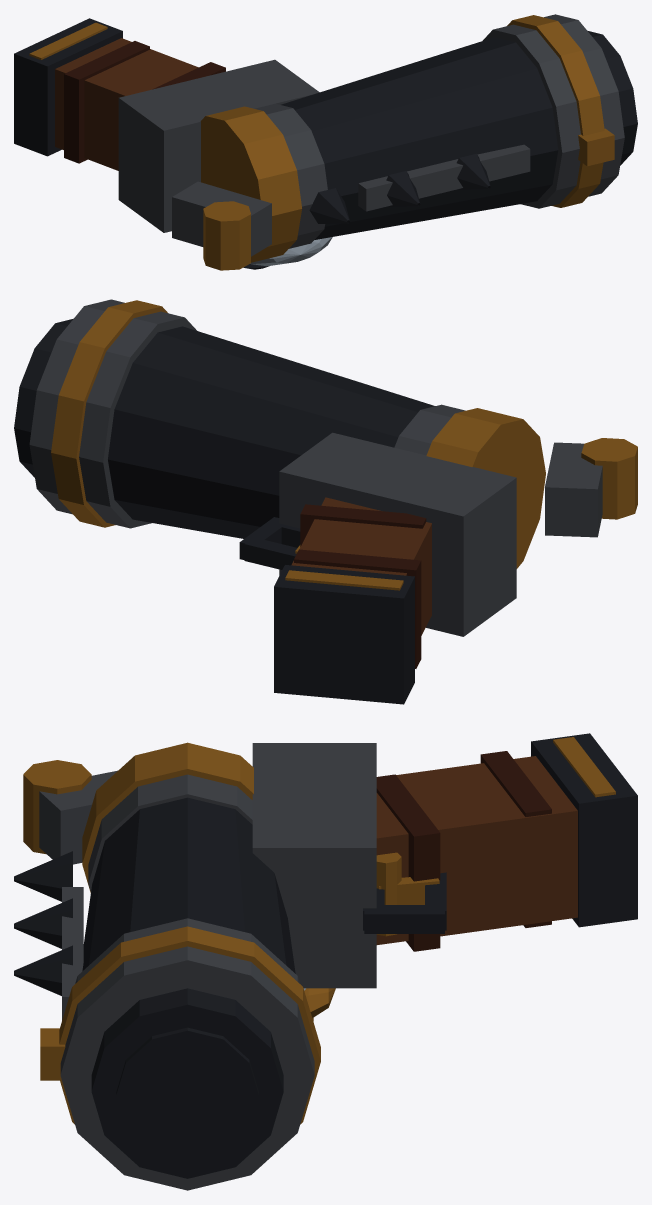
File: crypt_hand_cannon_doom.obj
3 views of the same model, one above another, from view 1: azimuth 30°, elevation 25°; view 2: azimuth 150°, elevation 25°; view 3: azimuth 270°, elevation 25° (orthographic). The views are drawn at different scales.
Parts seen in each view (by area): view 1: Hand_Cannon; view 2: Hand_Cannon; view 3: Hand_Cannon.
Part boxes in pixels (bbox=[...]): Hand_Cannon: bbox=[14, 14, 637, 270]; Hand_Cannon: bbox=[14, 299, 637, 704]; Hand_Cannon: bbox=[14, 733, 637, 1190].
Bounding box in the file's own units: 1.15 × 0.4428 × 1.01.
